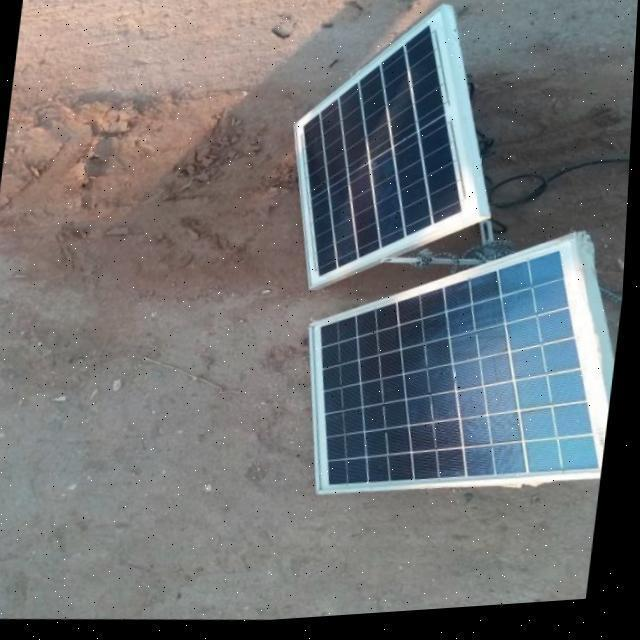Normal Solar Panel: (294, 222, 630, 520), (276, 0, 508, 304)
